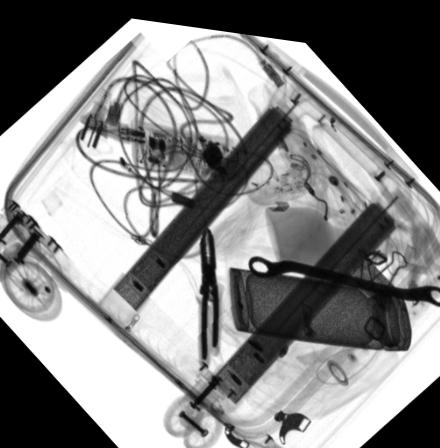Pliers: (194, 222, 224, 361)
Wrench: (246, 247, 440, 293)
